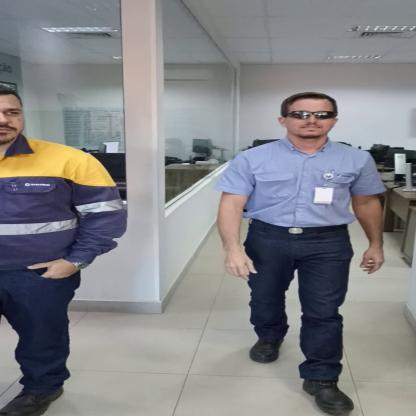Operacional: (0, 140, 127, 276)
